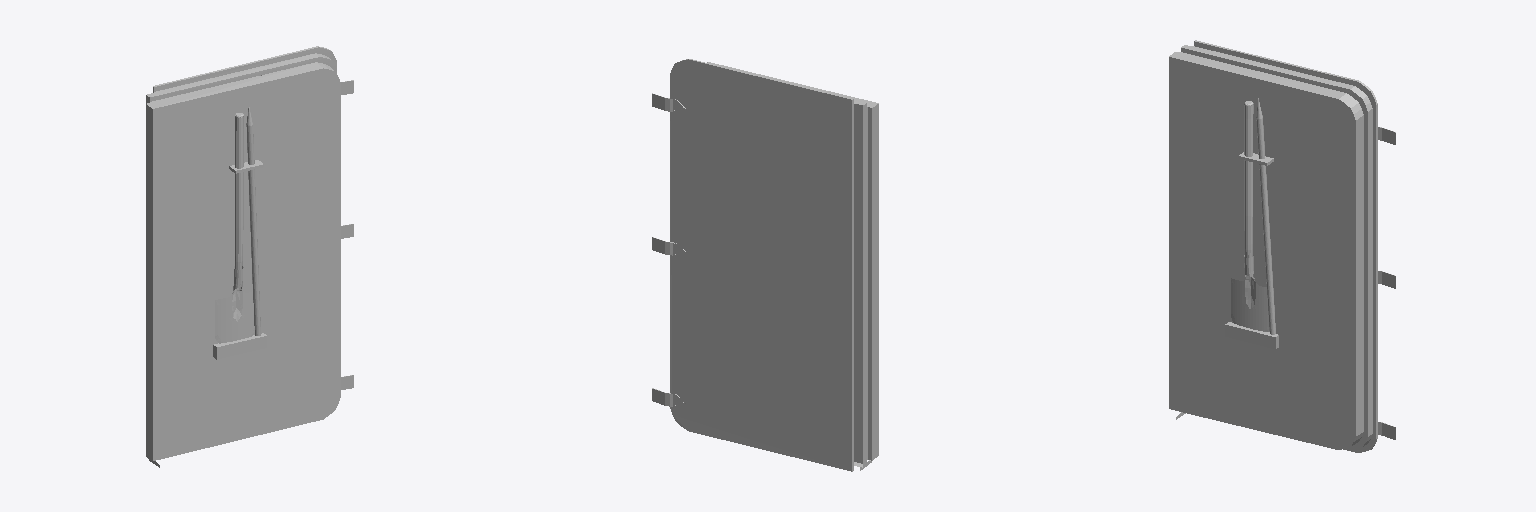
Rendered from leftbackdoor.obj.
The picture shows the model from 3 angles: view 1: azimuth 30°, elevation 25°; view 2: azimuth 150°, elevation 25°; view 3: azimuth 330°, elevation 25°; orthographic projection.
Parts seen in each view (by area): view 1: door_buzd_left_rear_Cube.000, shovel.001_Cylinder00.000, Stack_Cylinder.000; view 2: door_buzd_left_rear_Cube.000; view 3: door_buzd_left_rear_Cube.000, shovel.001_Cylinder00.000, Stack_Cylinder.000.
Part boxes in pixels (left/top/right/bottom): door_buzd_left_rear_Cube.000: left=146, top=46, right=353, bottom=467; shovel.001_Cylinder00.000: left=215, top=113, right=254, bottom=343; Stack_Cylinder.000: left=246, top=107, right=260, bottom=335; door_buzd_left_rear_Cube.000: left=652, top=59, right=878, bottom=471; door_buzd_left_rear_Cube.000: left=1169, top=40, right=1395, bottom=452; shovel.001_Cylinder00.000: left=1231, top=101, right=1268, bottom=331; Stack_Cylinder.000: left=1256, top=98, right=1275, bottom=334.
Bounding box in the file's own units: 0.8255 × 1.37 × 0.1399.